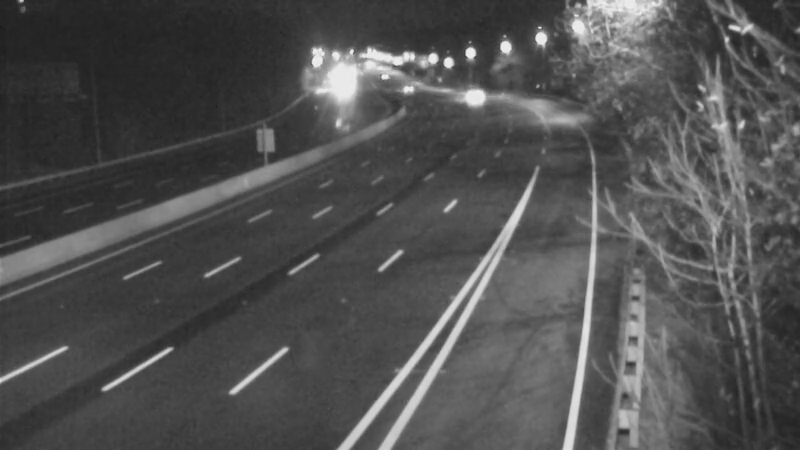vehicle: (378, 60, 428, 110), (445, 73, 495, 123)
